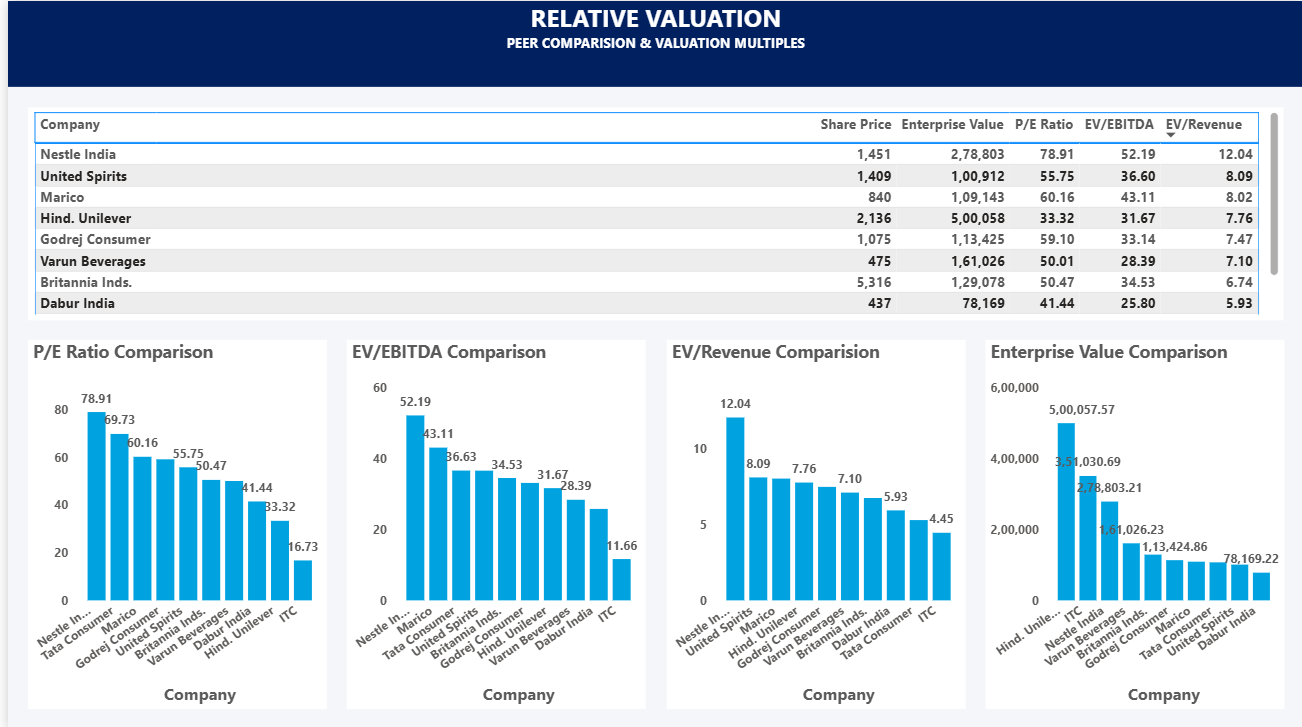

What the dashboard file says about the page in this screenshot:
{"tool":"powerbi","page":{"name":"Relative Valuation","canvas":[1280,720],"ordinal":3},"visuals":[{"type":"textbox","box":[0,0,1280,85],"z":0},{"type":"tableEx","fields":{"Values":["Relative valuation.Company","Sum(Relative valuation.Share Price)","Sum(Relative valuation.Enterprise Value)","Sum(Relative valuation. P/E Ratio)","Sum(Relative valuation.EV/EBITDA)","Sum(Relative valuation.EV/Revenue)"]},"box":[20,105,1240,210],"z":1000},{"type":"clusteredColumnChart","title":"P/E Ratio Comparison","fields":{"Category":["Relative valuation.Company"],"Y":["Sum(Relative valuation. P/E Ratio)"]},"box":[20,335,295,365],"z":2000},{"type":"clusteredColumnChart","title":"EV/EBITDA Comparison","fields":{"Category":["Relative valuation.Company"],"Y":["Sum(Relative valuation.EV/EBITDA)"]},"box":[335,335,295,365],"z":3000},{"type":"clusteredColumnChart","title":"EV/Revenue Comparision","fields":{"Category":["Relative valuation.Company"],"Y":["Sum(Relative valuation.EV/Revenue)"]},"box":[650,335,295,365],"z":4000},{"type":"clusteredColumnChart","title":"Enterprise Value Comparison","fields":{"Category":["Relative valuation.Company"],"Y":["Sum(Relative valuation.Enterprise Value)"]},"box":[965,335,295,365],"z":5000}]}

Visuals, with their boxes in screenshot pixels (x1, y1, x2, y2), scaled from the page's 1280x720 canvas onto the 1302x727 screenshot:
textbox: x1=0, y1=0, x2=1301, y2=86
tableEx - Relative valuation.Company x Sum(Relative valuation.Share Price): x1=20, y1=106, x2=1282, y2=318
"P/E Ratio Comparison" clusteredColumnChart: x1=20, y1=338, x2=320, y2=707
"EV/EBITDA Comparison" clusteredColumnChart: x1=341, y1=338, x2=641, y2=707
"EV/Revenue Comparision" clusteredColumnChart: x1=661, y1=338, x2=961, y2=707
"Enterprise Value Comparison" clusteredColumnChart: x1=982, y1=338, x2=1282, y2=707
